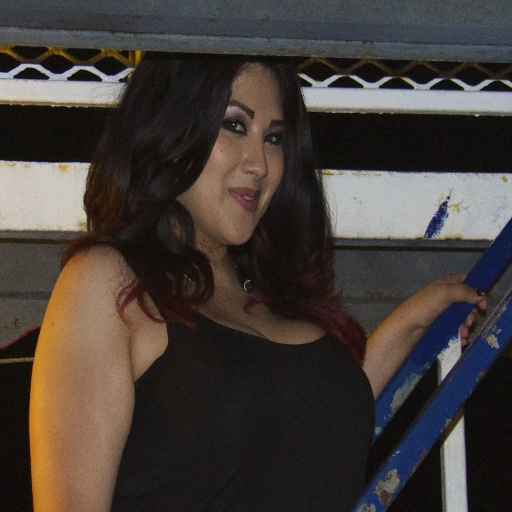hand: (379, 262, 493, 356)
